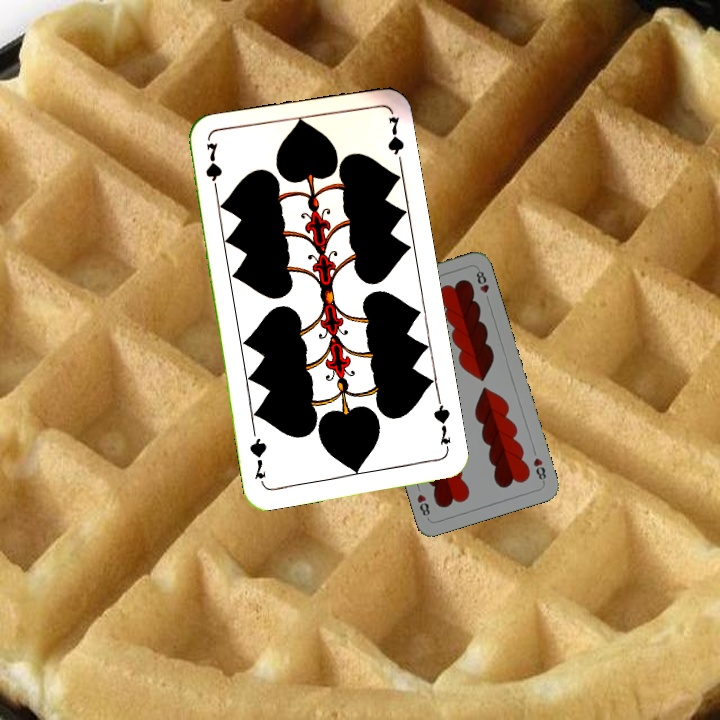G7: (429, 395, 454, 454), (201, 138, 225, 198)
H8: (529, 454, 549, 485)
